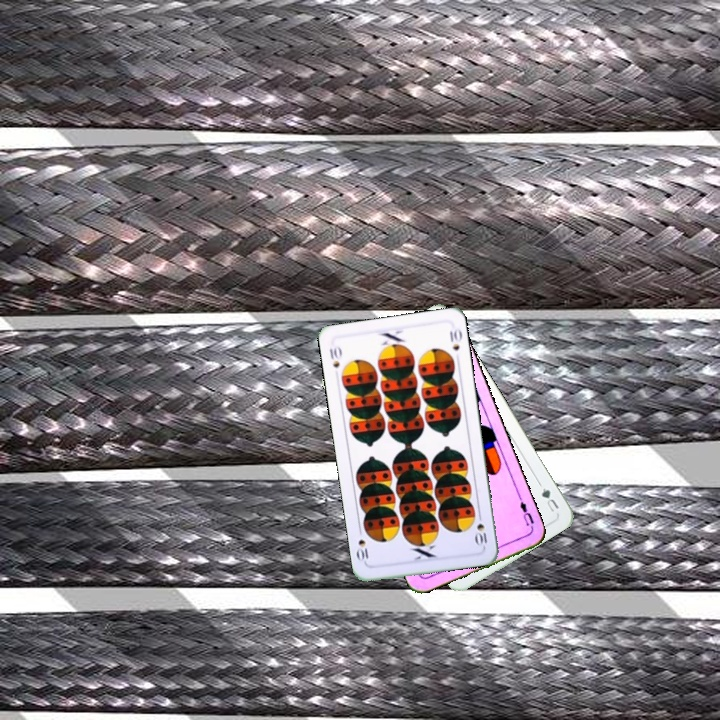EU: (515, 493, 537, 532)
GU: (535, 479, 562, 515)
S10: (472, 509, 489, 549), (325, 342, 344, 370)
